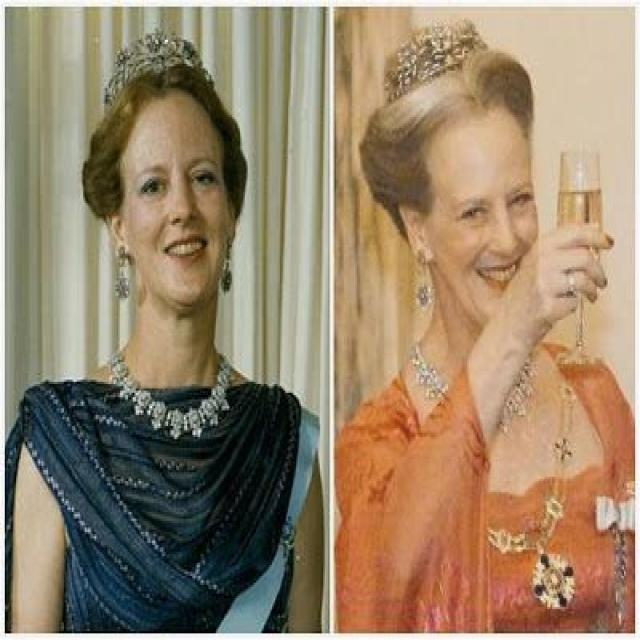Earring: (404, 239, 438, 309), (109, 238, 143, 303), (216, 238, 236, 300)
